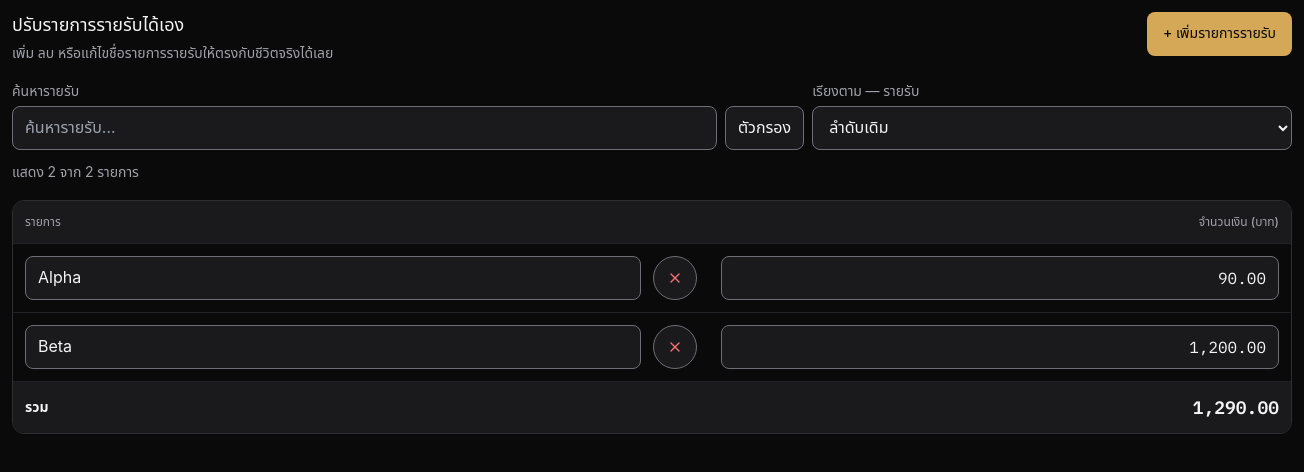
income typing under a search preserves DOM and Add pins even when no match
Type "Alpha" into the search field at (364, 128), box left=12, top=106, right=717, bottom=150
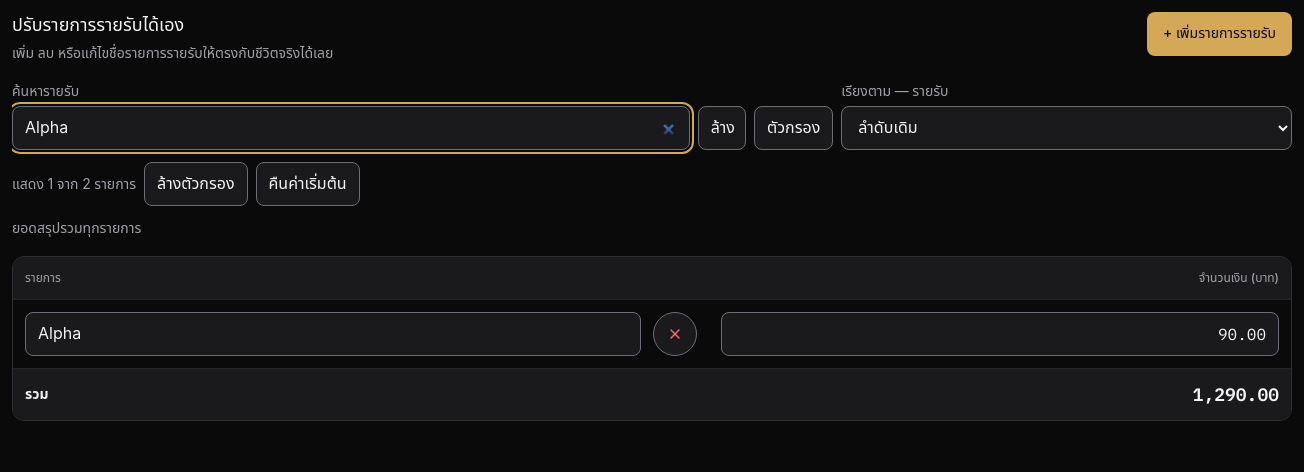
Replace the text in the search field showing "Alpha" with "Changed" at (351, 128), box left=12, top=106, right=690, bottom=150
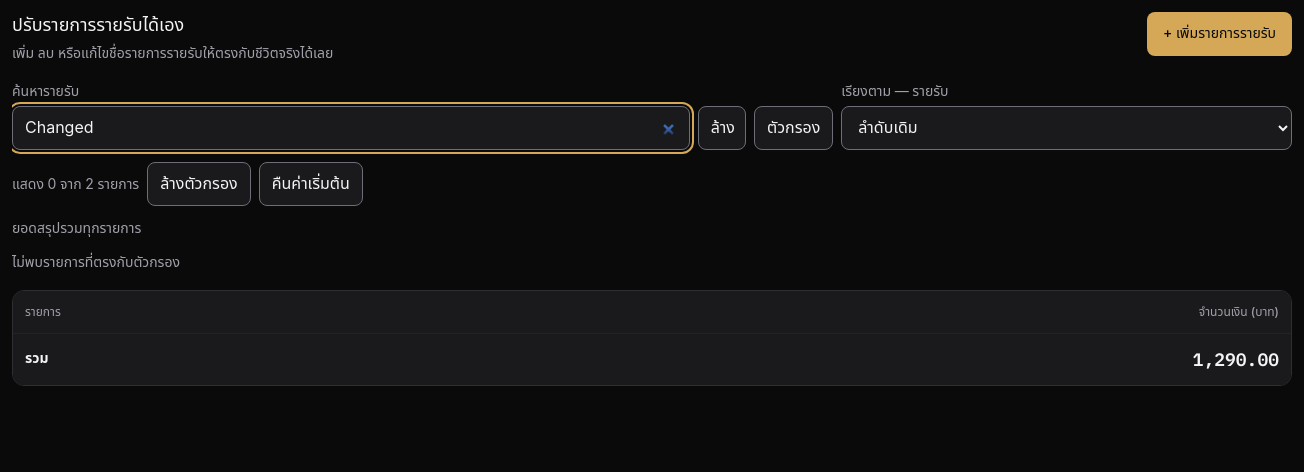
Replace the text in the search field with "no match" at (351, 128), box left=12, top=106, right=690, bottom=150
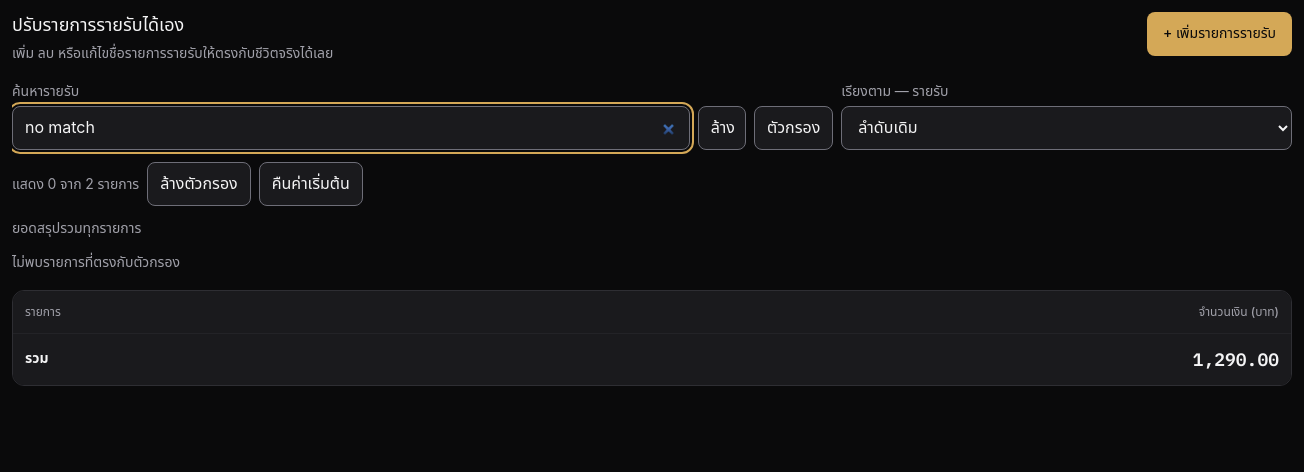
Click the button "+ เพิ่มรายการรายรับ" at (1220, 34), box left=1147, top=12, right=1292, bottom=56
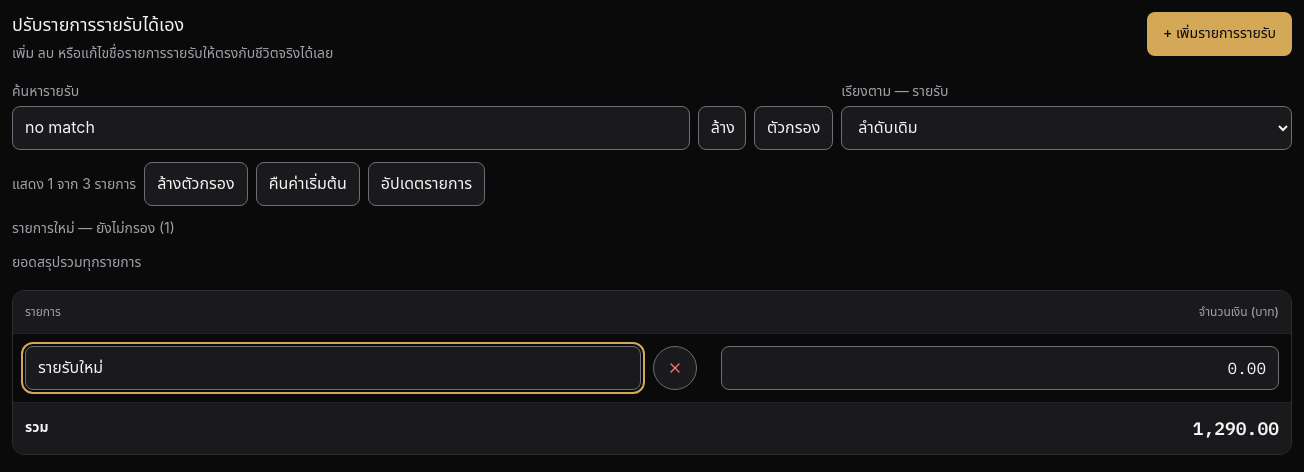
Expected: the number of fields showing "รายรับใหม่" is 2
Expected: the text "รายการใหม่ — ยังไม่กรอง (1)" is shown, left=12, top=218, right=175, bottom=239
